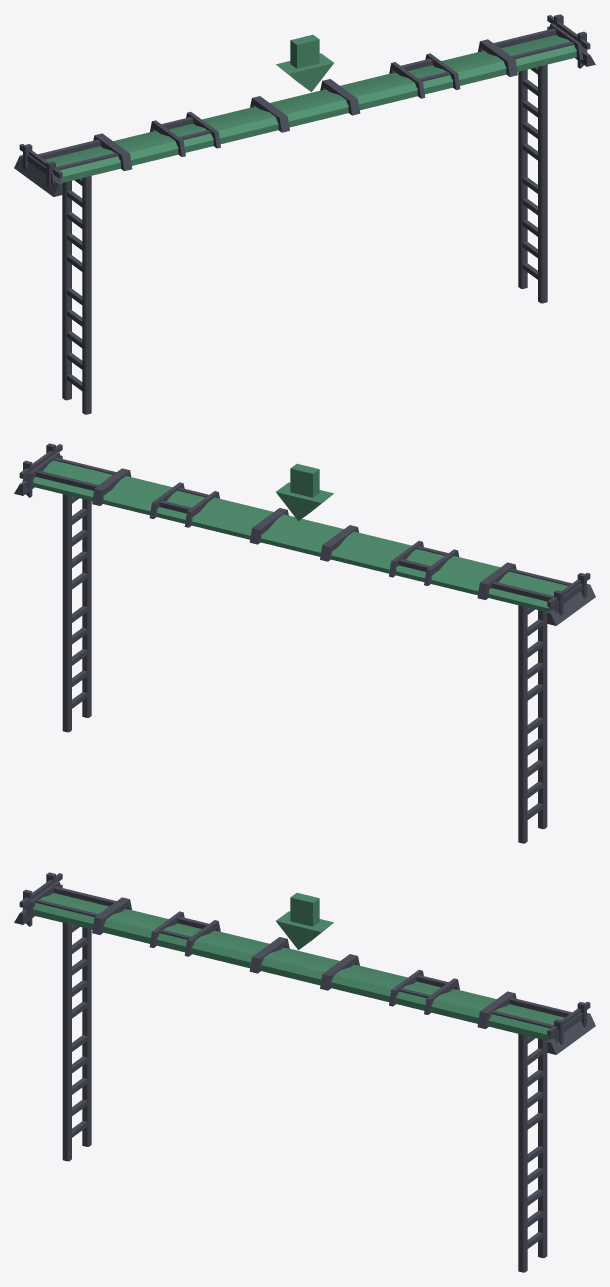
File: Checkpoint.fbx
3 renders of one model, top to bottom at view 1: azimuth 30°, elevation 25°; view 2: azimuth 150°, elevation 25°; view 3: azimuth 330°, elevation 25°, orthographic.
Visible parts, largest first — view 1: detail_convertibleDown%_18, ladder_8, ladder_11, ladder_9, ladder_10, detail_roofDoubleRails%_17, detail_roofDoubleRails%_19, detail_bullbar_25, detail_roofDoubleRails%_22, detail_roofDoubleRails%_23, detail_roofRails%_21, block_default_29 (+1 smaller); view 2: detail_convertibleDown%_18, ladder_11, ladder_8, ladder_9, ladder_10, detail_roofDoubleRails%_17, detail_roofDoubleRails%_19, detail_bullbar_25, detail_roofDoubleRails%_22, detail_roofDoubleRails%_23, detail_roofRails%_21, block_default_29 (+1 smaller); view 3: detail_convertibleDown%_18, ladder_8, ladder_11, ladder_10, ladder_9, detail_roofDoubleRails%_19, detail_roofDoubleRails%_17, detail_bullbar_24, detail_roofDoubleRails%_23, detail_roofDoubleRails%_22, detail_roofRails%_21, block_default_29 (+1 smaller).
Boxes of the visible parts, x1,y1,x2,y2 form: detail_convertibleDown%_18: (45, 35, 576, 182); ladder_8: (518, 168, 547, 303); ladder_11: (62, 279, 91, 414); ladder_9: (518, 64, 547, 184); ladder_10: (62, 176, 91, 295); detail_roofDoubleRails%_17: (478, 23, 587, 76); detail_roofDoubleRails%_19: (22, 133, 132, 184); detail_bullbar_25: (14, 144, 62, 196); detail_roofDoubleRails%_22: (389, 53, 460, 98); detail_roofDoubleRails%_23: (150, 112, 220, 156); detail_roofRails%_21: (250, 79, 360, 132); block_default_29: (290, 34, 319, 68); detail_convertibleDown%_18: (33, 460, 568, 612); ladder_11: (518, 708, 547, 843); ladder_8: (62, 597, 91, 732); ladder_9: (62, 494, 91, 613); ladder_10: (518, 605, 547, 724); detail_roofDoubleRails%_17: (22, 452, 131, 505); detail_roofDoubleRails%_19: (477, 562, 587, 613); detail_bullbar_25: (547, 573, 595, 625); detail_roofDoubleRails%_22: (149, 482, 219, 527); detail_roofDoubleRails%_23: (389, 541, 459, 585); detail_roofRails%_21: (249, 508, 358, 561); block_default_29: (290, 463, 319, 497); detail_convertibleDown%_18: (33, 893, 564, 1040); ladder_8: (518, 1137, 547, 1272); ladder_11: (62, 1026, 91, 1161); ladder_10: (62, 923, 91, 1042); ladder_9: (518, 1034, 547, 1153); detail_roofDoubleRails%_19: (22, 881, 131, 934); detail_roofDoubleRails%_17: (477, 991, 587, 1042); detail_bullbar_24: (547, 1002, 595, 1054); detail_roofDoubleRails%_23: (149, 911, 220, 956); detail_roofDoubleRails%_22: (389, 970, 459, 1014); detail_roofRails%_21: (249, 937, 359, 990); block_default_29: (290, 892, 319, 926).
Size of the model in its own units: 47.6 by 26 by 6.03.
